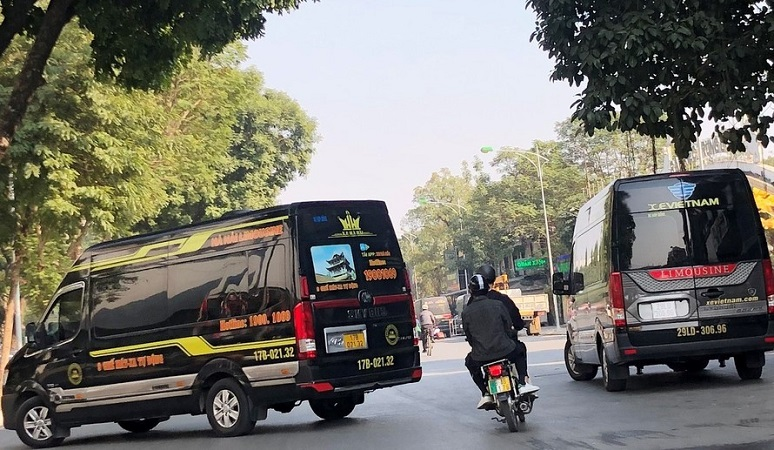number_plate: (350, 353, 406, 377), (675, 325, 732, 337)
